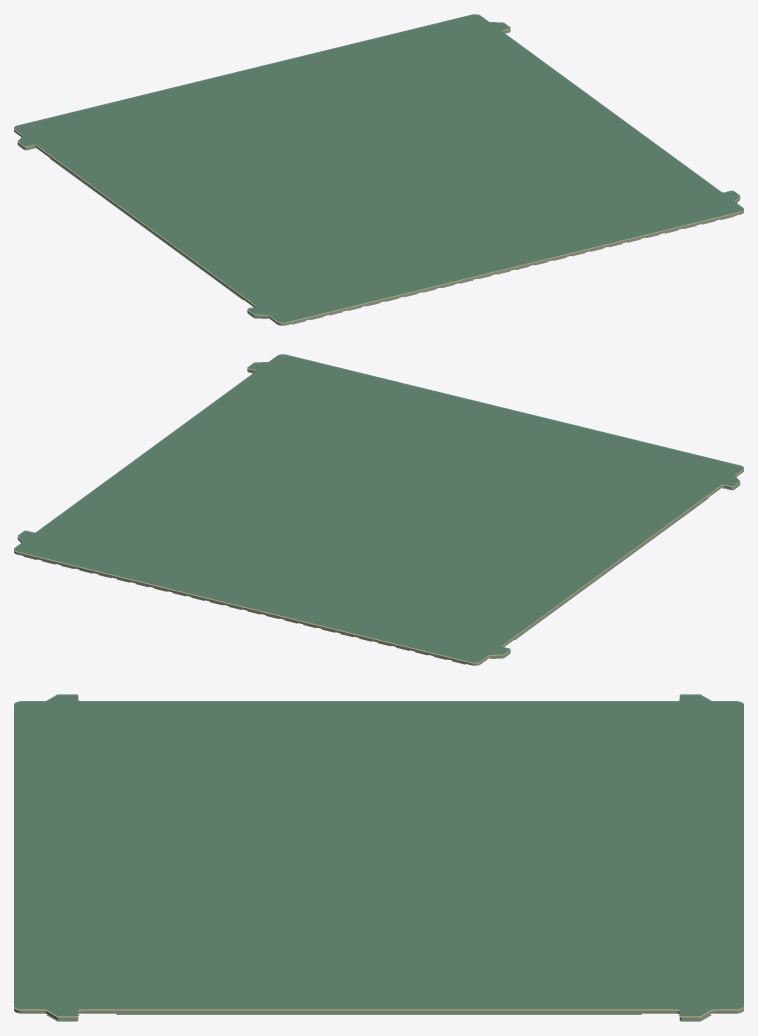
File: YAKB-FPC-coupon-B1.glb
3 views of the same model, one above another, from view 1: azimuth 30°, elevation 25°; view 2: azimuth 150°, elevation 25°; view 3: azimuth 270°, elevation 25° (orthographic). The views are drawn at different scales.
Visible parts, largest first — view 1: =>[0:1:1:6], =>[0:1:1:4]; view 2: =>[0:1:1:6], =>[0:1:1:4]; view 3: =>[0:1:1:6], =>[0:1:1:4], =>[0:1:1:5].
Boxes of the visible parts, x1,y1,x2,y2 form: =>[0:1:1:6]: (14, 16, 743, 325); =>[0:1:1:4]: (14, 14, 743, 322); =>[0:1:1:6]: (14, 356, 743, 665); =>[0:1:1:4]: (14, 354, 743, 662); =>[0:1:1:6]: (14, 696, 743, 1020); =>[0:1:1:4]: (14, 694, 743, 1016); =>[0:1:1:5]: (46, 1013, 711, 1021).
Size of the model in its own units: 0.0261 by 0.00021 by 0.025.
